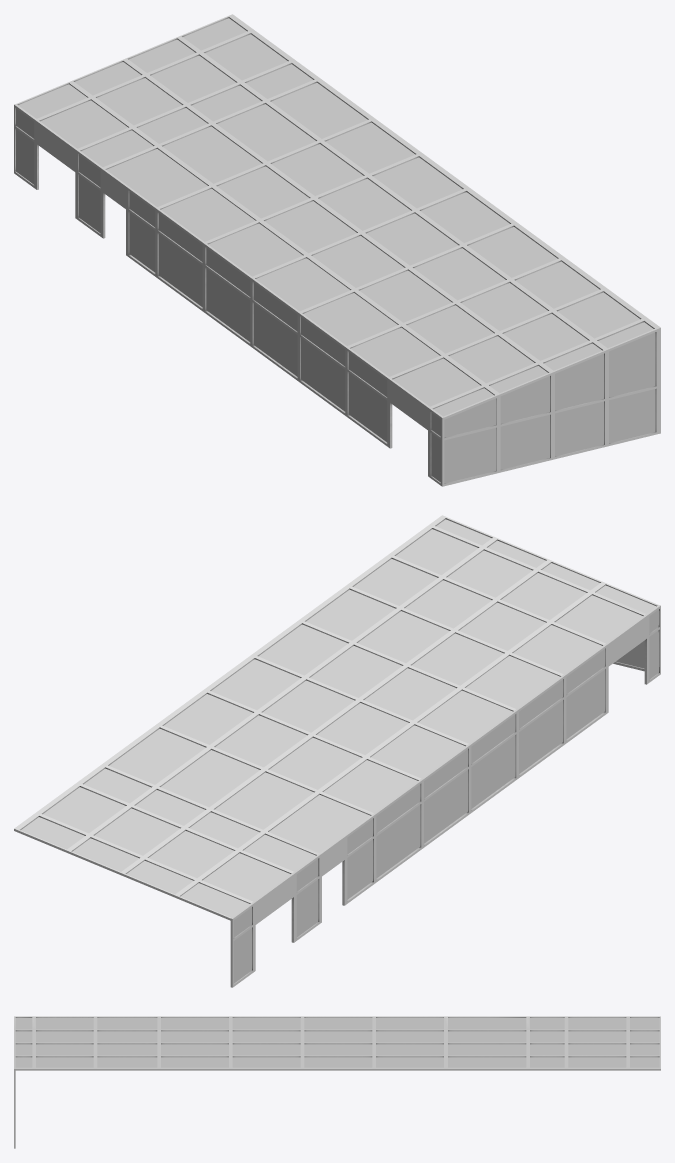
Rendered from Cubierta_pintura.FBX.
3 views of the same model, one above another, from view 1: azimuth 30°, elevation 25°; view 2: azimuth 150°, elevation 25°; view 3: azimuth 270°, elevation 25° (orthographic). The views are drawn at different scales.
Visible parts, largest first — view 1: ventana top, cubierta pintura, ventana5, ventana2, ventana3, ventana4; view 2: ventana top, cubierta pintura, ventana2, ventana3, ventana4; view 3: ventana top, cubierta pintura.
Boxes of the visible parts, bbox=[...] form: ventana top: bbox=[18, 18, 653, 416]; cubierta pintura: bbox=[14, 14, 660, 486]; ventana5: bbox=[444, 332, 655, 483]; ventana2: bbox=[129, 191, 387, 442]; ventana3: bbox=[78, 154, 100, 232]; ventana4: bbox=[16, 108, 34, 184]; ventana top: bbox=[21, 519, 656, 917]; cubierta pintura: bbox=[14, 515, 660, 987]; ventana2: bbox=[347, 649, 604, 899]; ventana3: bbox=[296, 859, 318, 937]; ventana4: bbox=[233, 907, 251, 983]; ventana top: bbox=[15, 1017, 659, 1067]; cubierta pintura: bbox=[14, 1016, 660, 1148].
Bounding box in the file's own units: 997 × 461 × 3382.
1 material, 1 textured.
